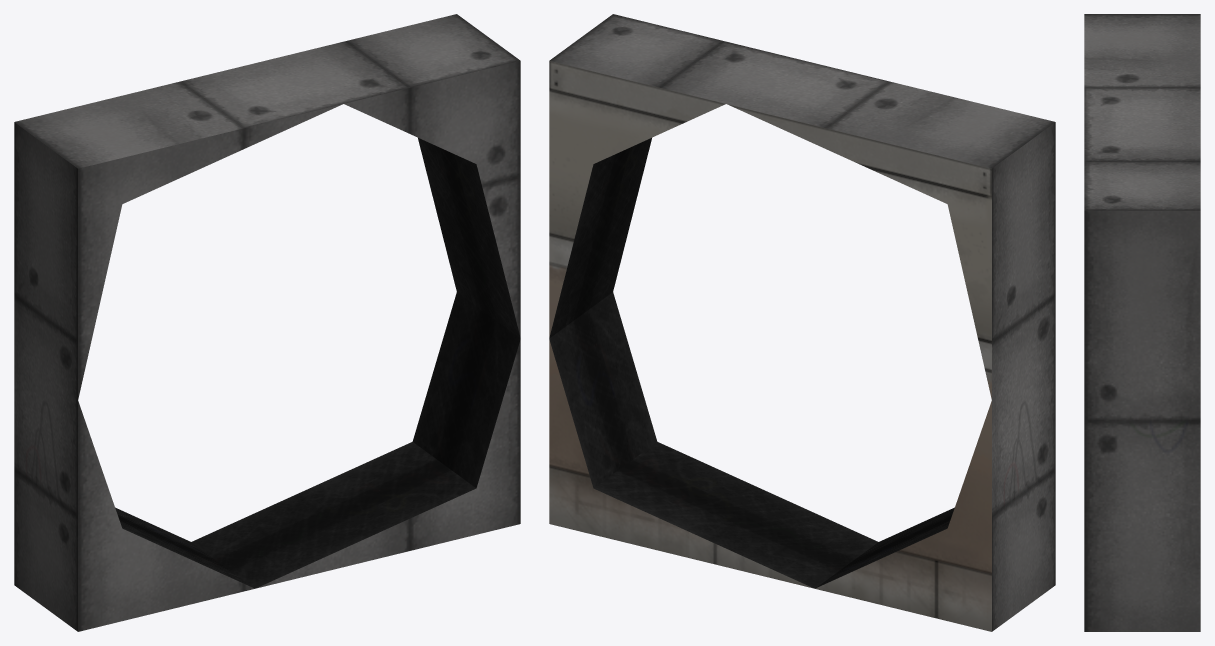
The model's file is surfacehole2_single.obj.
The picture shows the model from 3 angles, left to right: view 1: azimuth 30°, elevation 25°; view 2: azimuth 150°, elevation 25°; view 3: azimuth 270°, elevation 25°; orthographic projection. The views are drawn at different scales.
Parts seen in each view (by area): view 1: surfacehole2_single_surfacehole2_single_mesh; view 2: surfacehole2_single_surfacehole2_single_mesh; view 3: surfacehole2_single_surfacehole2_single_mesh.
Part boxes in pixels (x1,y1,x2,y2): surfacehole2_single_surfacehole2_single_mesh: (14, 14, 520, 631); surfacehole2_single_surfacehole2_single_mesh: (549, 14, 1055, 631); surfacehole2_single_surfacehole2_single_mesh: (1084, 14, 1200, 631).
Bounding box in the file's own units: 1 × 1 × 0.25.
